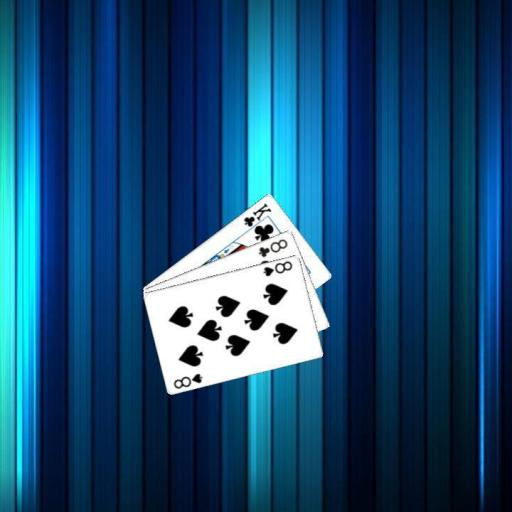card-corner: (241, 200, 273, 234), (256, 235, 290, 259), (260, 258, 294, 278), (171, 370, 204, 390)
